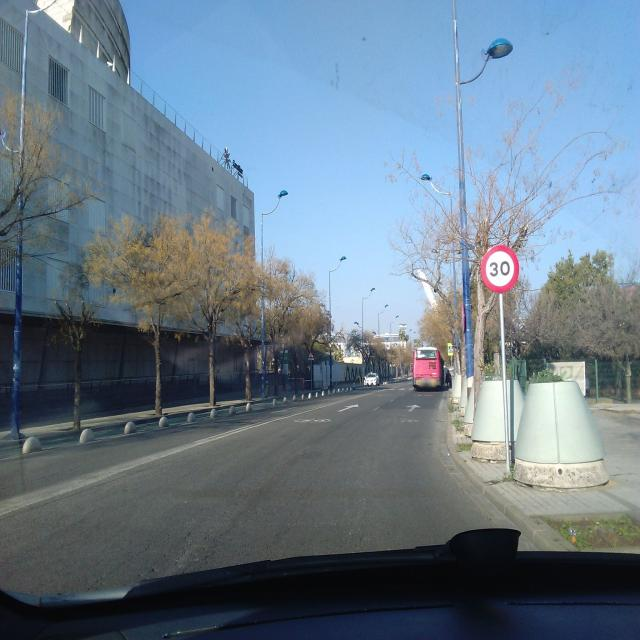car: (364, 372, 378, 387), (445, 366, 453, 388)
